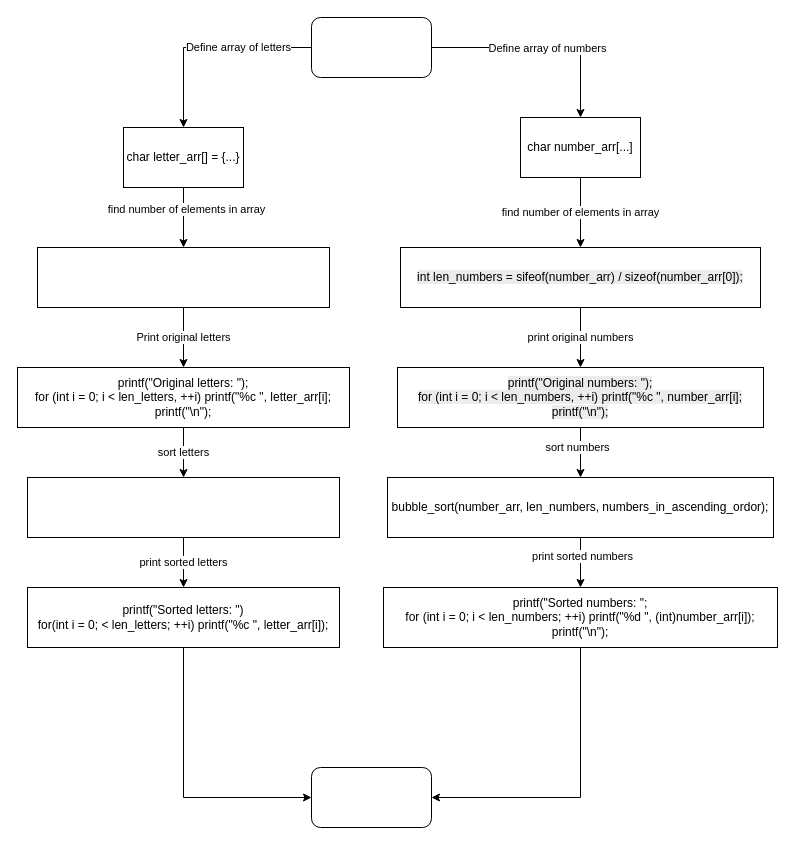
The diagram is 795 pixels wide and 845 high, and some of its shapes have lost their labels. The shapes that lost their labels are listed below. From the top down, each one's centre as x and y in pixels, then its label:
At (x=371, y=47): "Start".
At (x=183, y=277): "int len_letters = sifeof(letter_arr) / sizeof(letter_arr[0]);".
At (x=183, y=507): "bubble_sort(letter_arr, len_letters, letters_in_order);".
At (x=371, y=797): "end".
